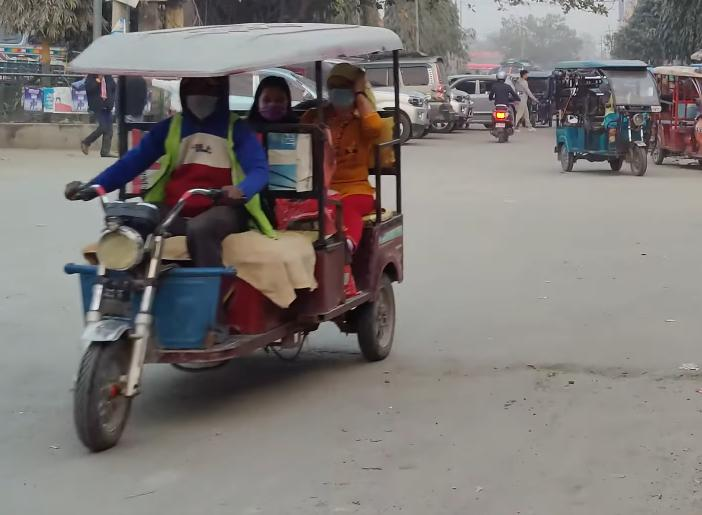e-rickshaw: (52, 16, 410, 446), (542, 48, 662, 182), (654, 64, 702, 169)
